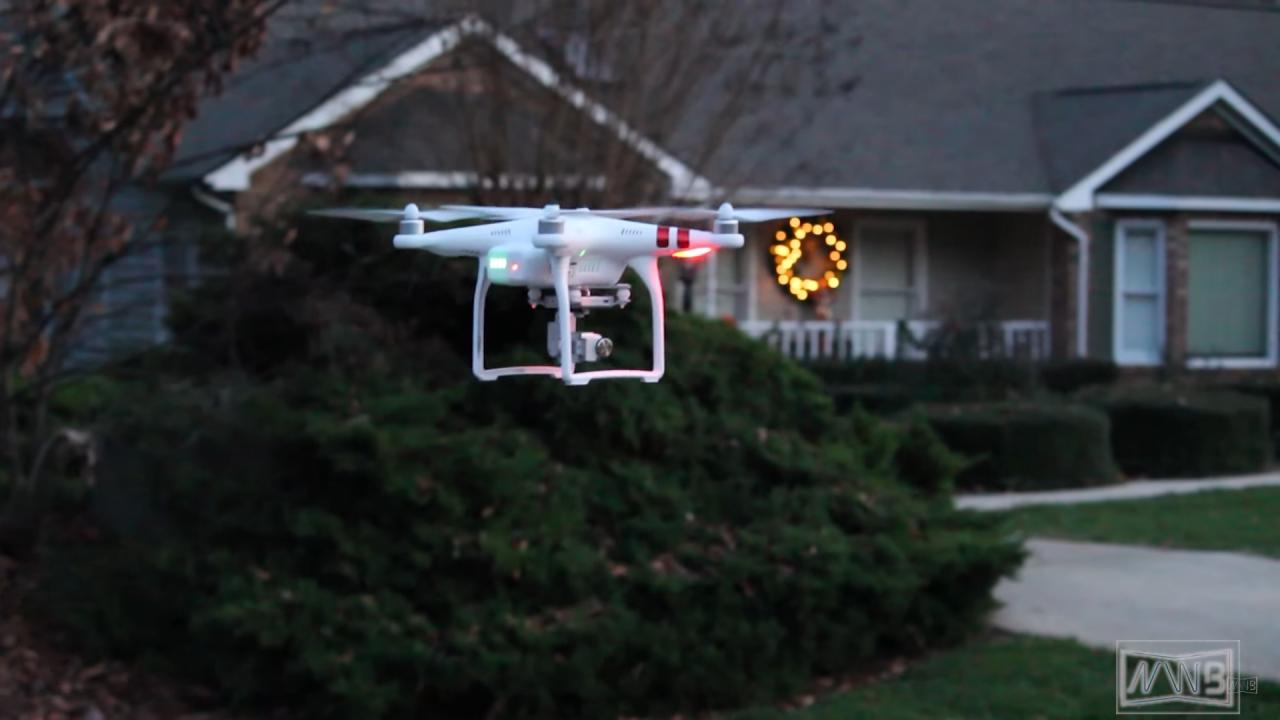Drone: (267, 176, 856, 404)
